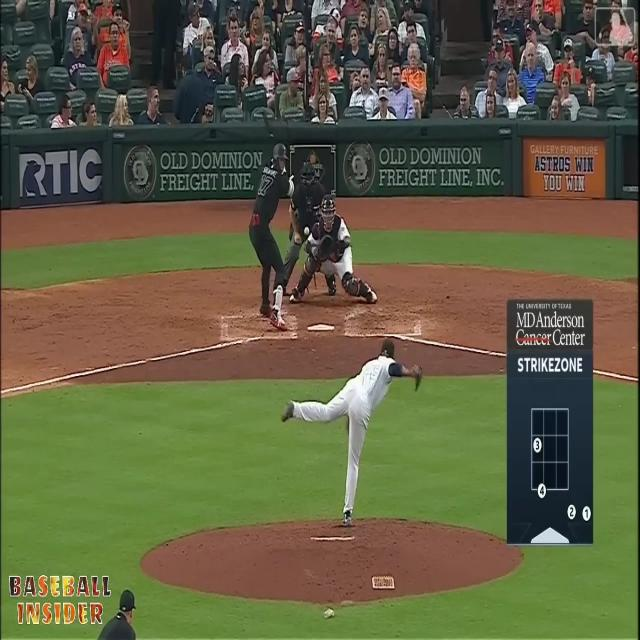baseball: (304, 227, 310, 234)
